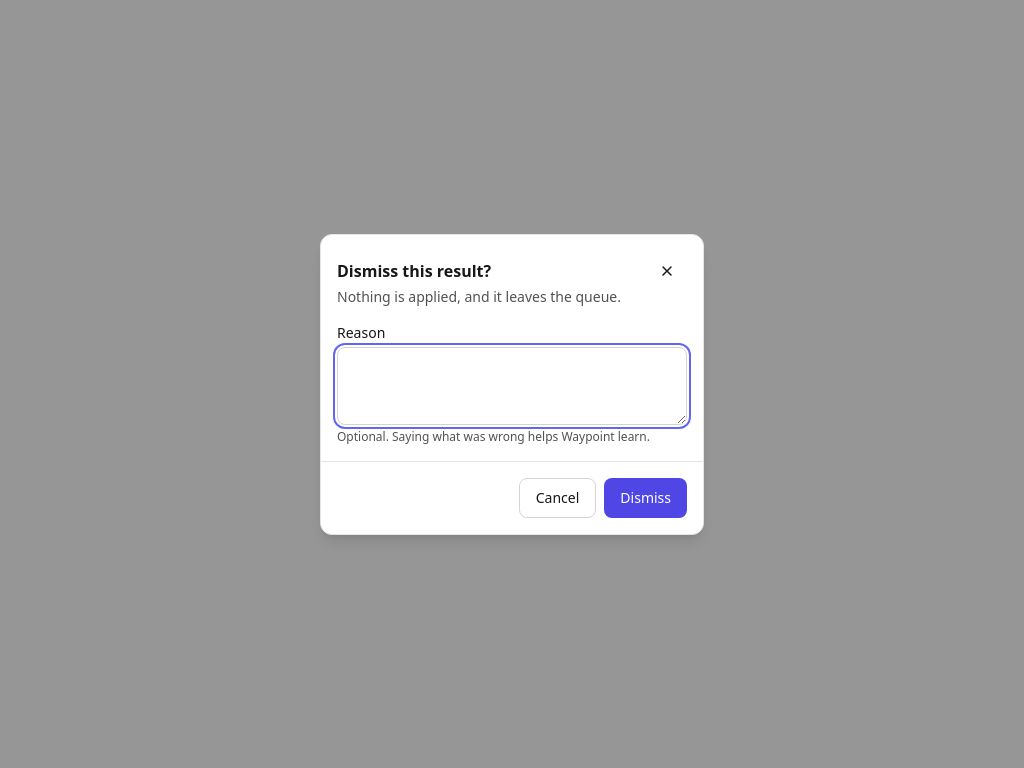
Test case: DismissReviewItemDialog › shows a 422 message under the field and stays open with the text kept
Type "Too long" into the text box labelled "Reason". click: (512, 386)
box: [337, 346, 687, 424]
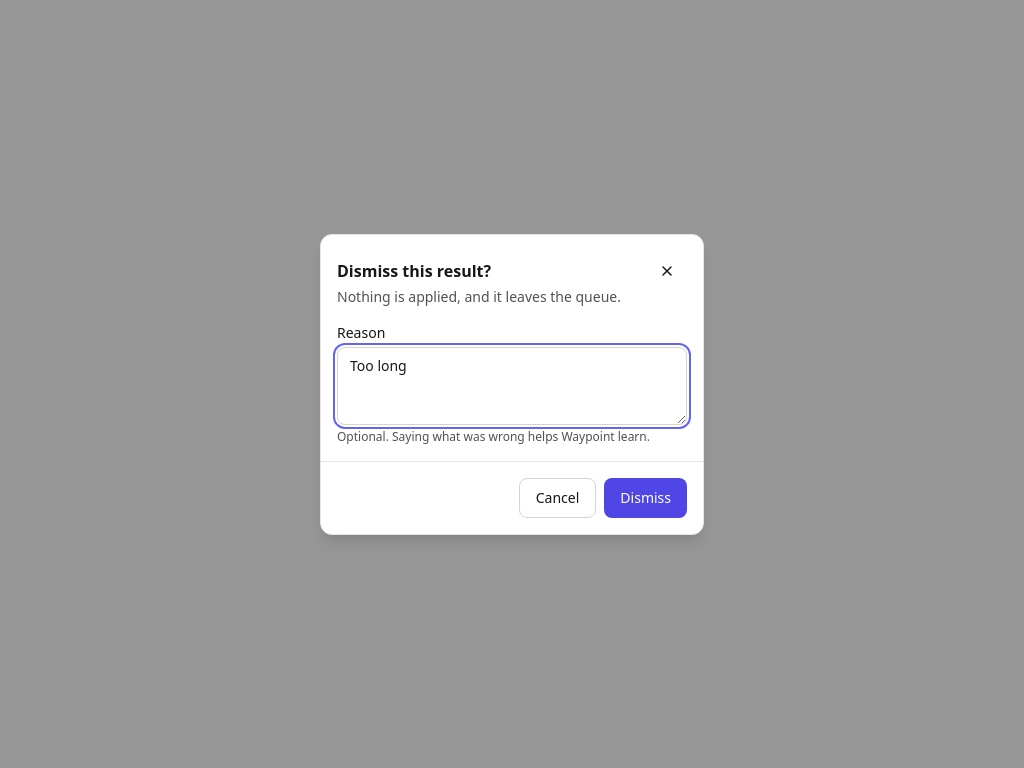
Click the button "Dismiss". click: (646, 498)
box: [604, 478, 687, 518]
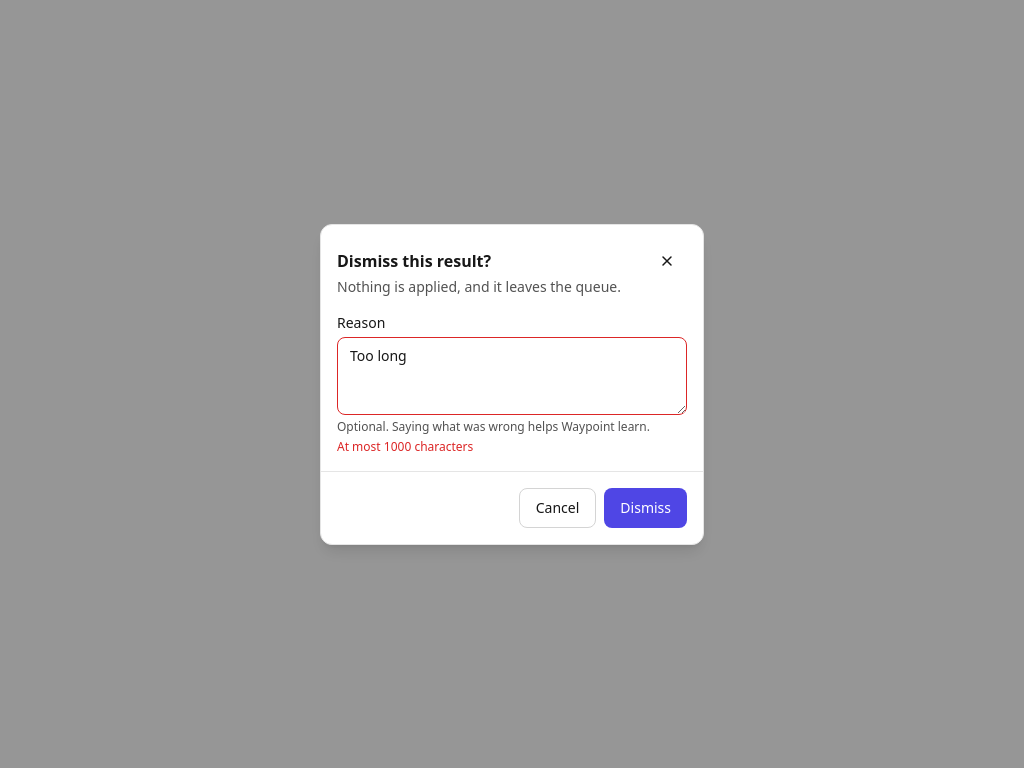
expect the dialog is shown: met, box [320, 224, 704, 544]
expect the text "At most 1000 characters" is shown: met, box [337, 438, 473, 454]
